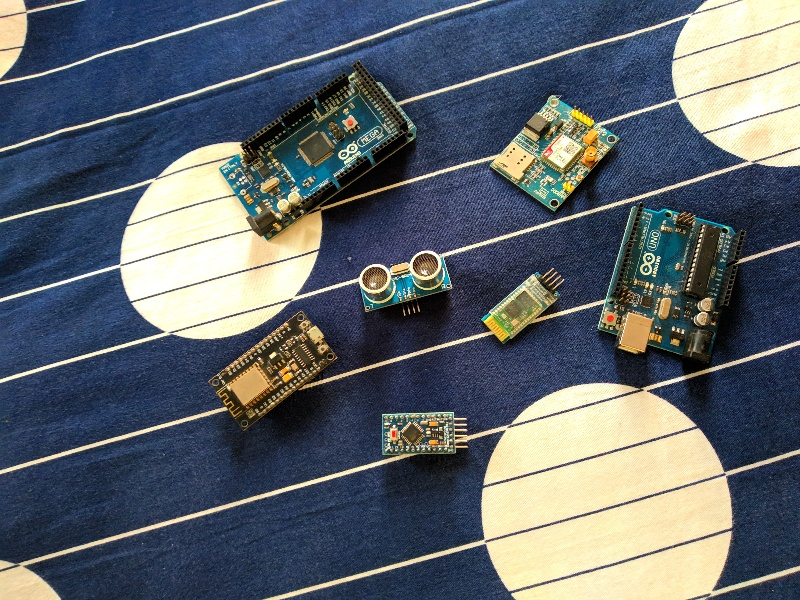Arduino Mega 2560: (215, 57, 420, 245)
Arduino Pro Mini: (375, 410, 460, 458)
Arduino UNO: (592, 196, 751, 371)
HC-05: (478, 270, 562, 347)
NodeMCU: (204, 306, 341, 435)
SIM800: (485, 91, 622, 216)
Sonar Sensor: (354, 248, 457, 316)
